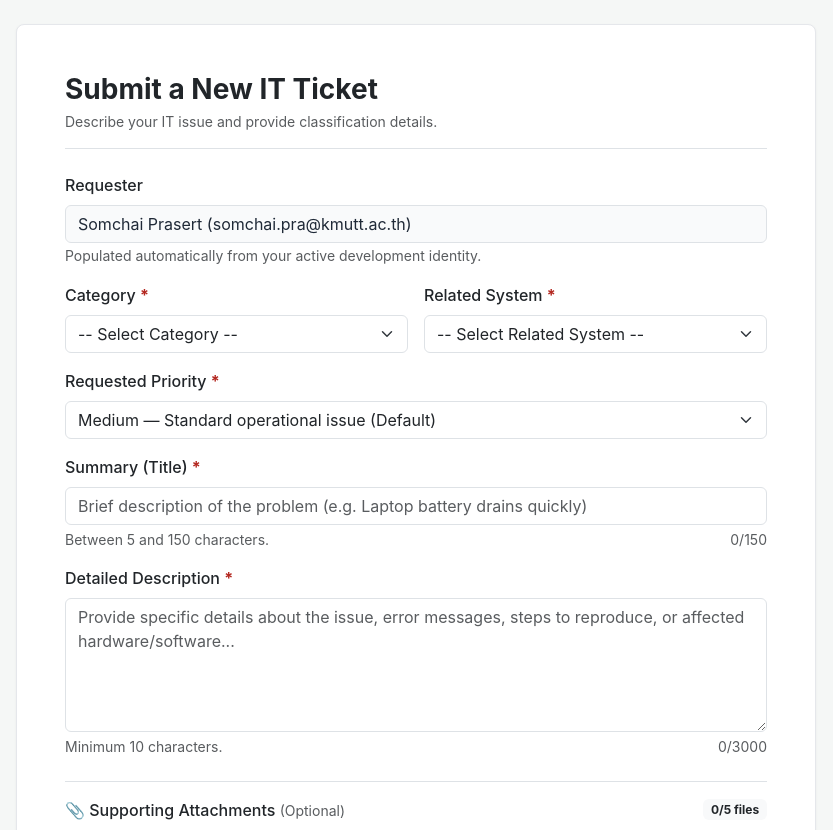
UI-02 & UI-03: Create Ticket Form Component › UI-03: displays error banner and preserves form values when API fails
Note: Fill form fields
Select "Hardware" in the dropdown labelled "Category *" at (236, 334), box [65,315,408,353]
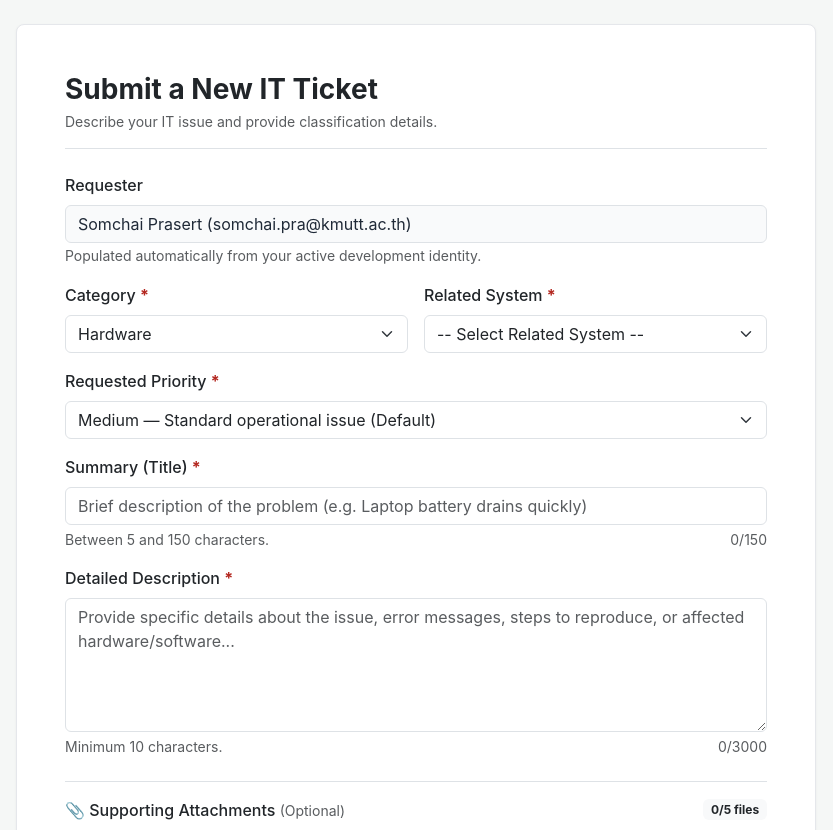
Select "Corporate Laptop" in the dropdown labelled "Related System *" at (596, 334), box [424,315,767,353]
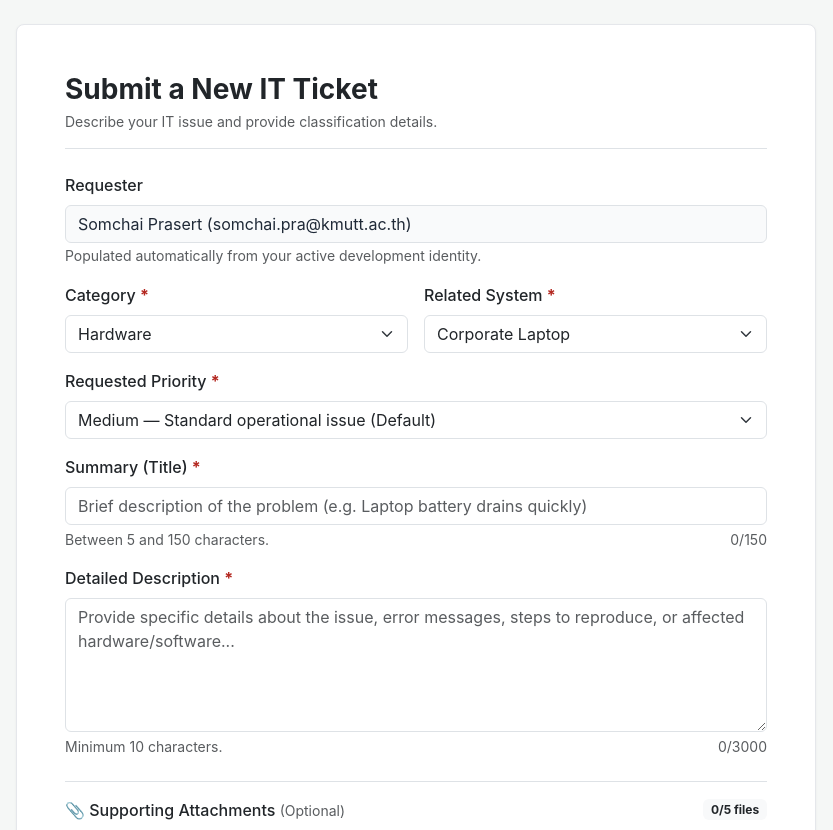
Replace the text in the field labelled "Summary (Title) *" with "Laptop screen flickering intermittently" at (416, 506), box [65,487,767,525]
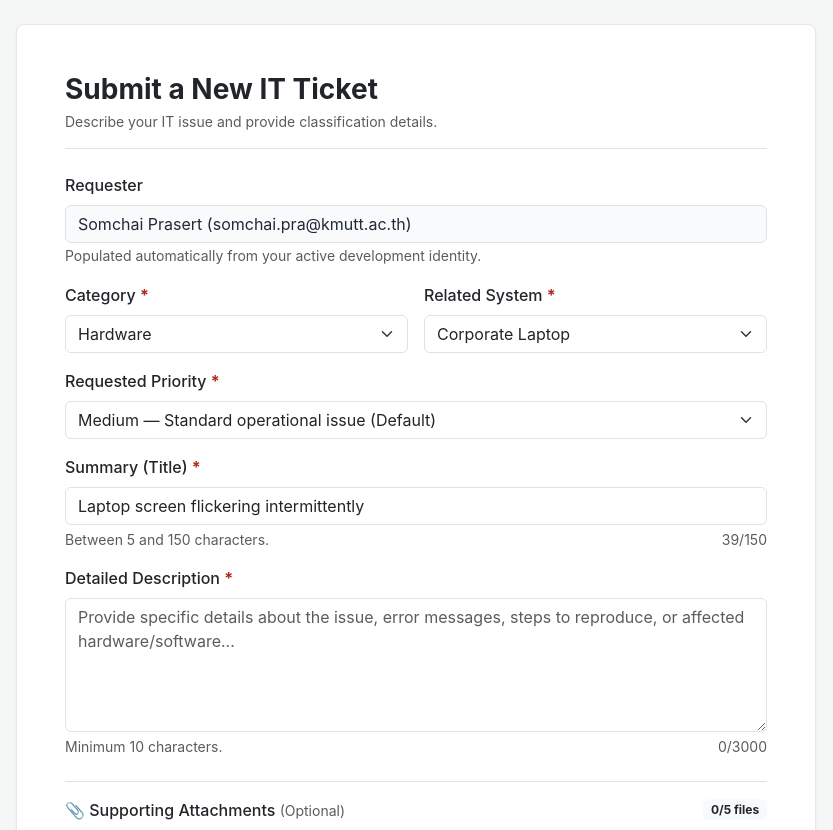
Replace the text in the text box labelled "Detailed Description *" with "The screen flickers every time brightness is adjusted above 50%." at (416, 665), box [65,598,767,732]
(page scrolled)
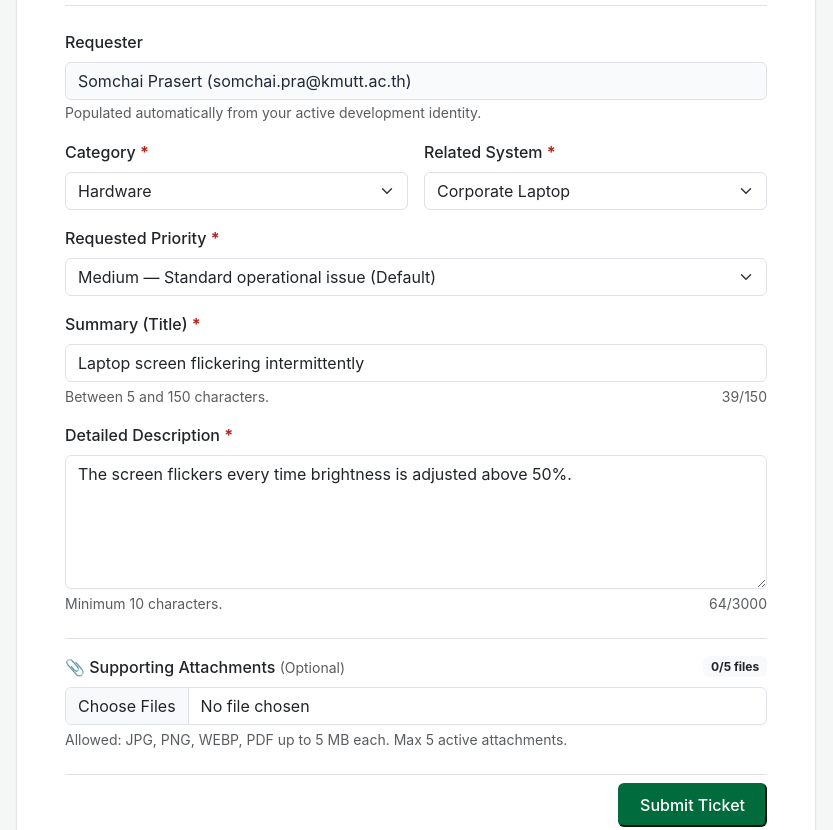
Click the button "Submit Ticket".
click(692, 805)  # box [618,783,767,827]
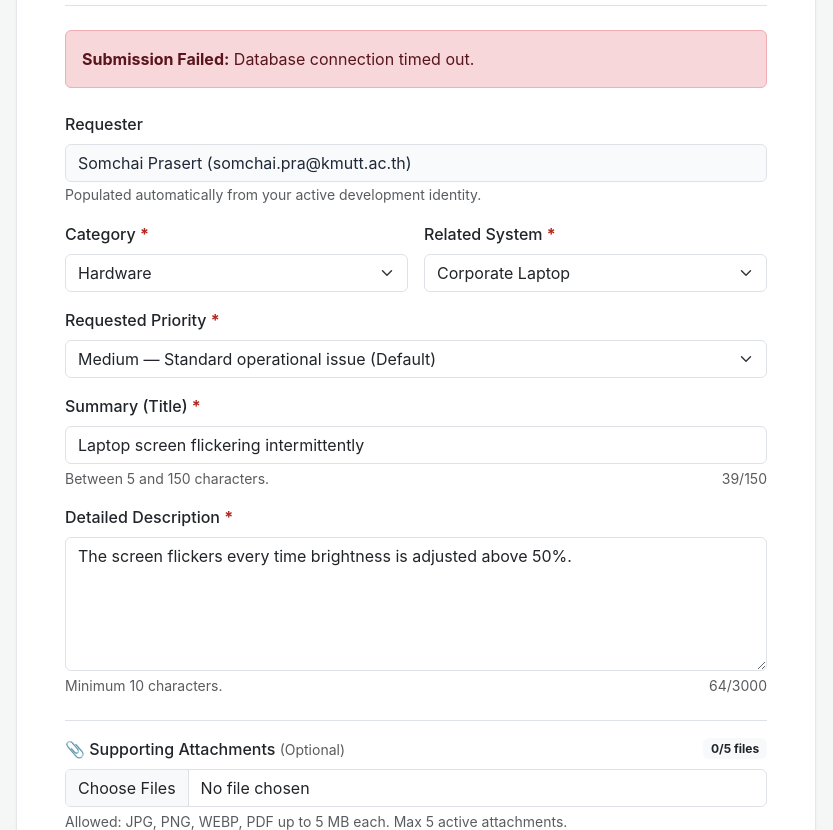
Now the message shows "Database connection timed out", box [234,49,474,69]
